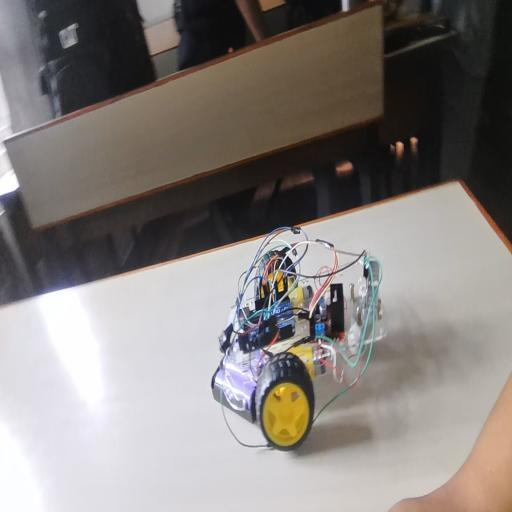car: (238, 219, 387, 444)
